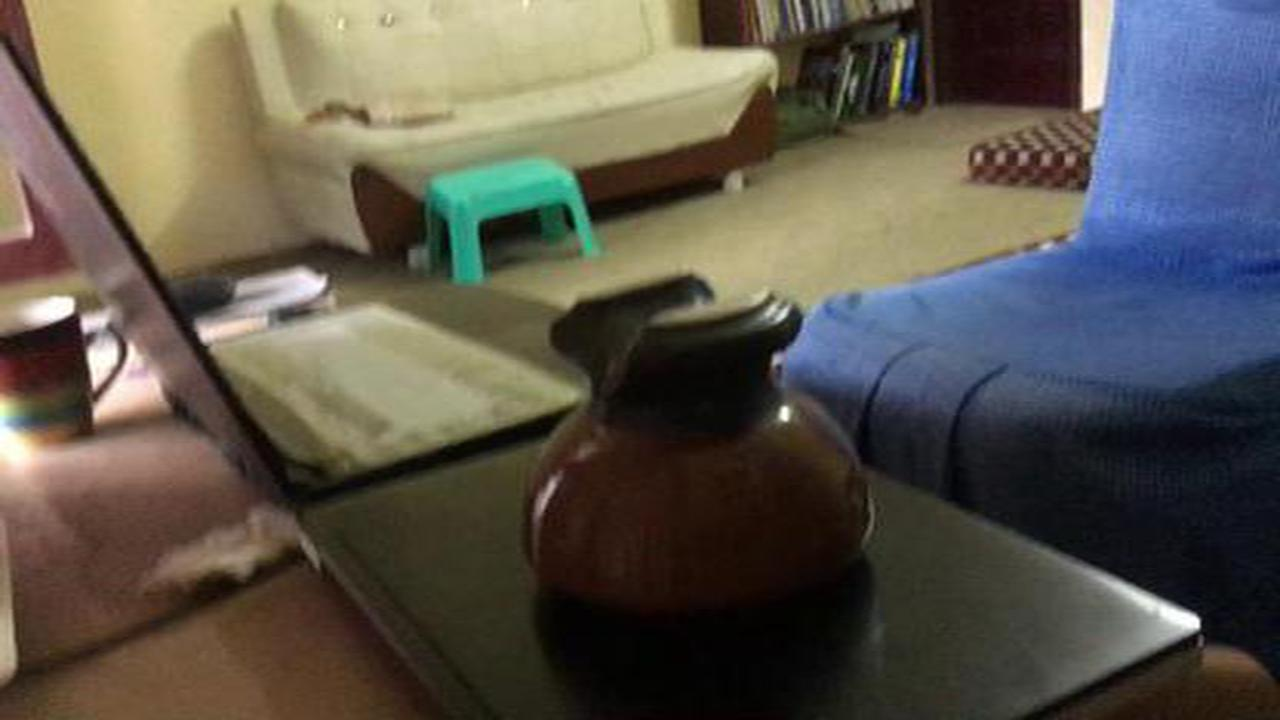insulator_pin: (514, 271, 896, 648)
